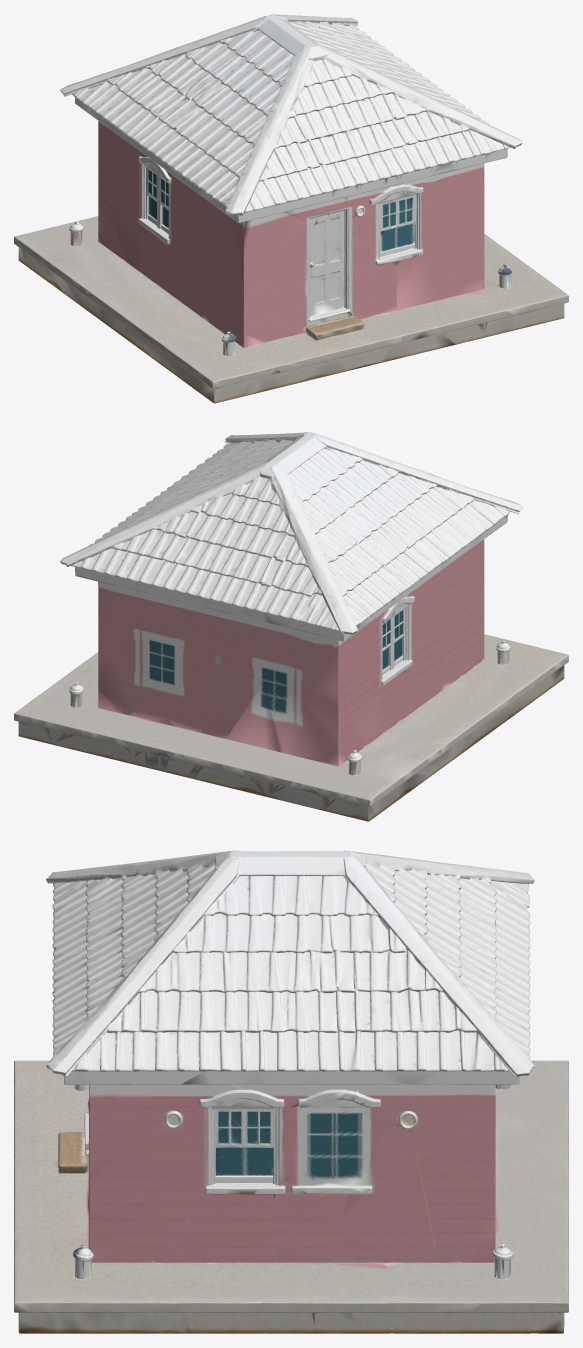
Rendered from bermuda-house-a.glb.
The picture shows the model from 3 angles, top to bottom: view 1: azimuth 30°, elevation 25°; view 2: azimuth 150°, elevation 25°; view 3: azimuth 270°, elevation 25°; orthographic projection. The views are drawn at different scales.
Size of the model in its own units: 1.9 by 1.32 by 1.84.
Materials: 1 (1 with a texture image).
